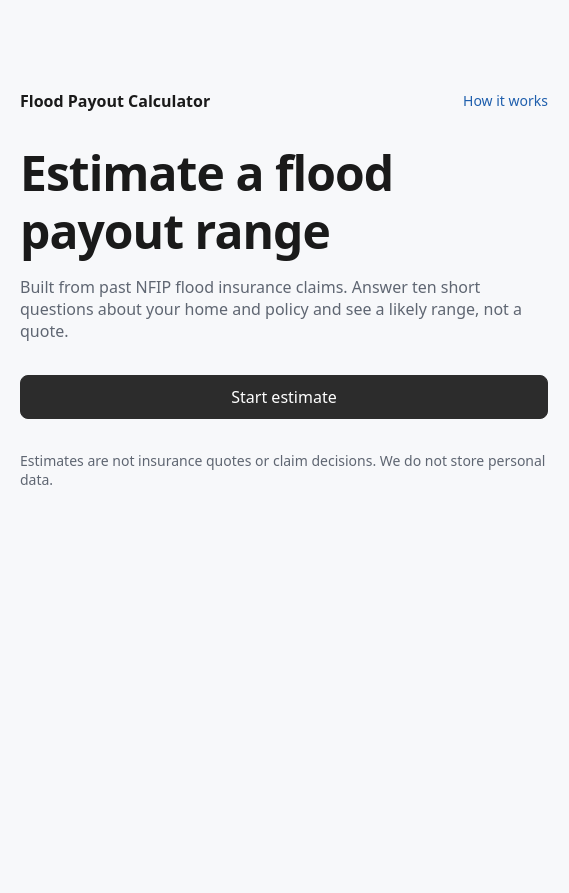
it: app flow › shows field errors and does not call the service when answers are missing
Click the button "Start estimate".
click(284, 397)  # box [20,375,548,419]
(page scrolled)
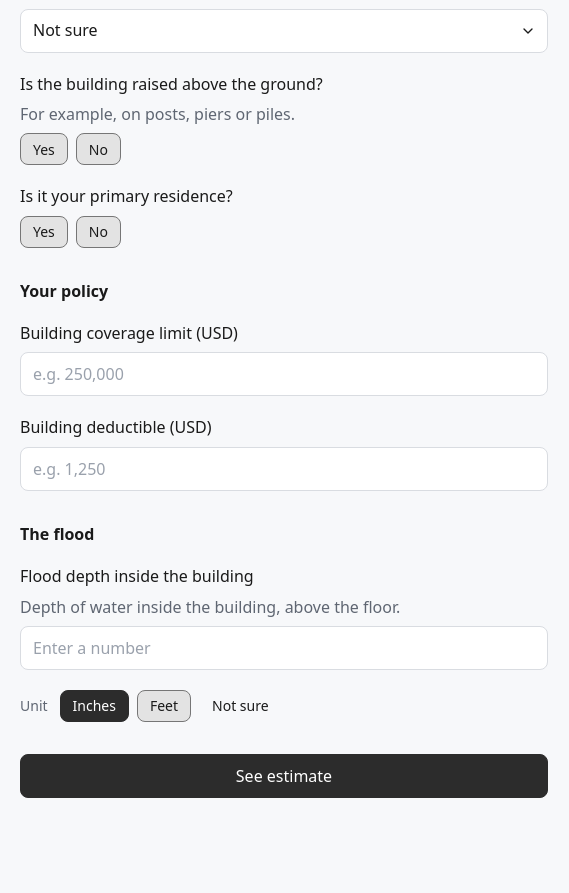
Click the button "See estimate".
click(284, 776)  # box [20,754,548,798]
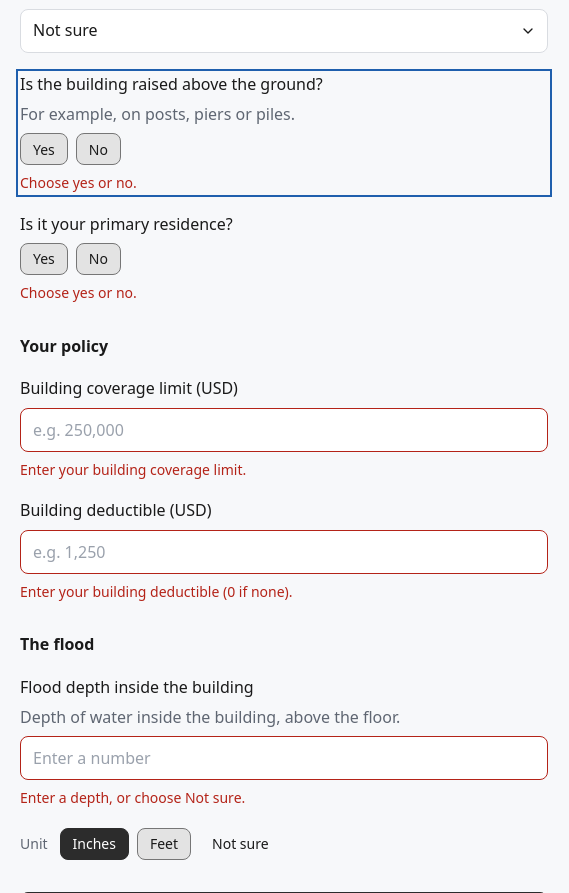
Expected: the text "Enter your building coverage limit." is shown, [20,460,246,479]
